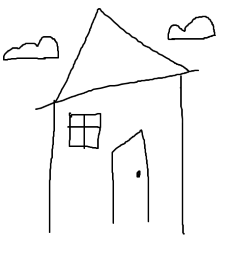closed_window: (68, 112, 102, 148)
clouds: (3, 35, 61, 63), (167, 15, 219, 40)
door: (103, 129, 158, 230)
roof: (34, 5, 199, 112)
wall: (49, 75, 185, 237)
